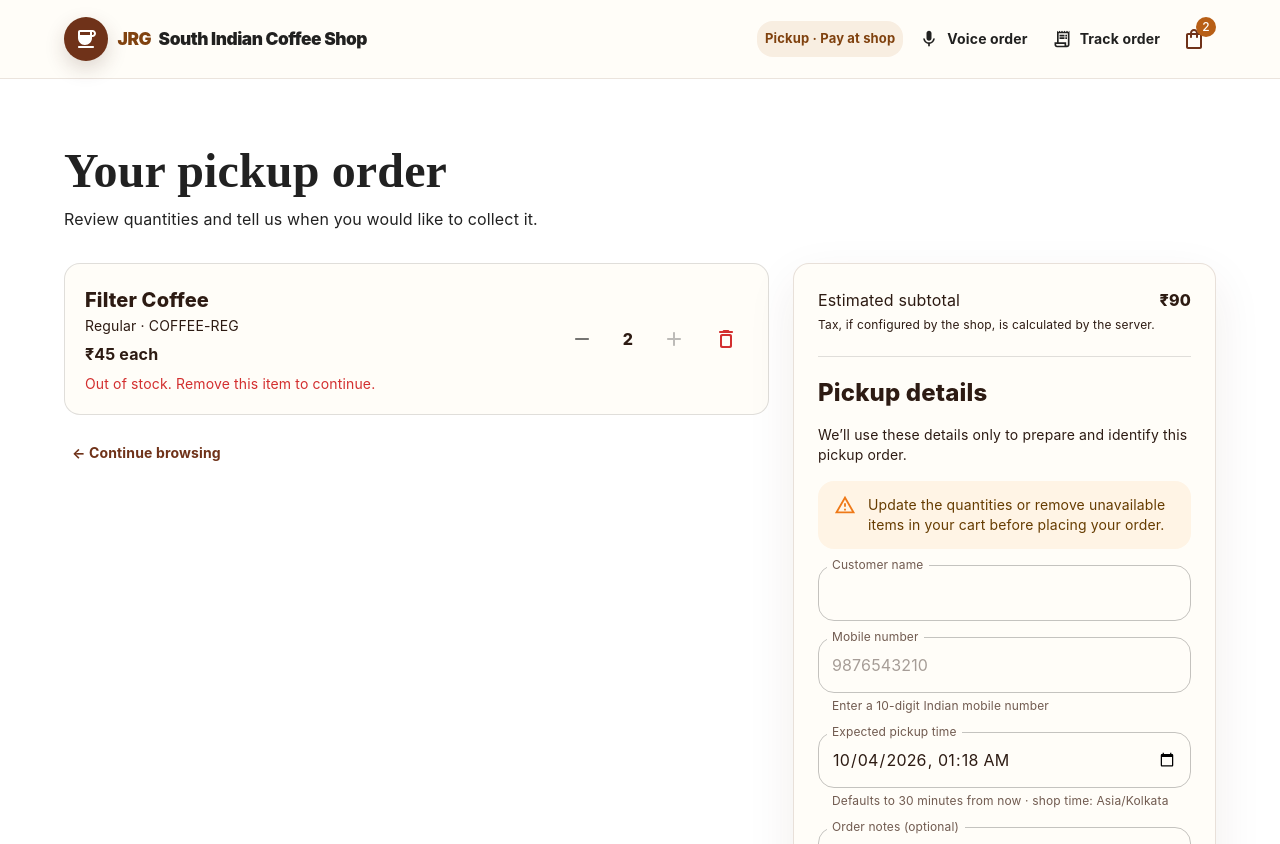
pickup checkout › keeps an out-of-stock cart item visible and lets the customer remove it
This screenshot has width=1280, height=844.
Check: the text "Out of stock. Remove this item to continue." is shown, box [85, 374, 375, 394]
What coordinates should you click on to do the following:
click the button named "Remove Filter Coffee Regular from cart"
I would click on:
 (726, 339)
Its box is [704, 317, 748, 361].
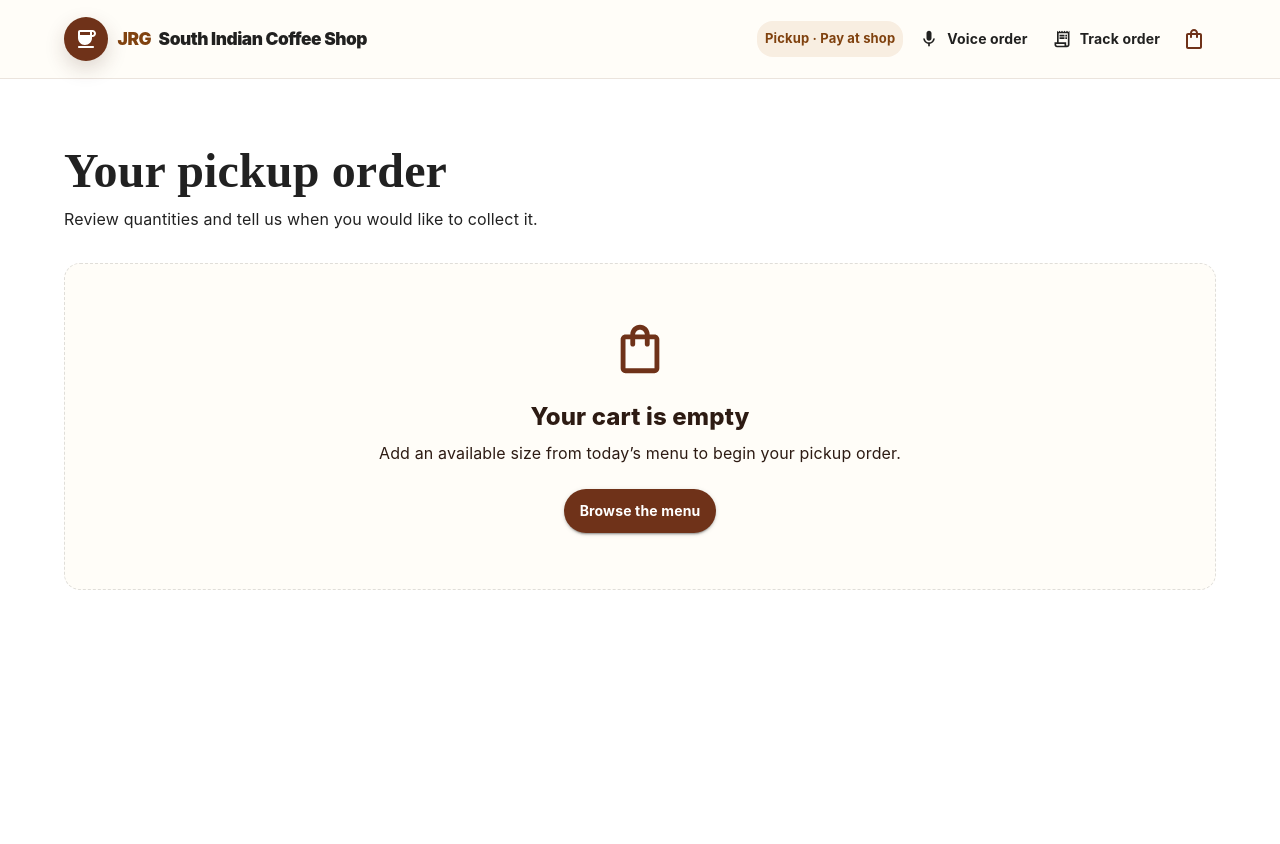
Check: the heading "Your cart is empty" is shown, box [530, 402, 750, 431]
